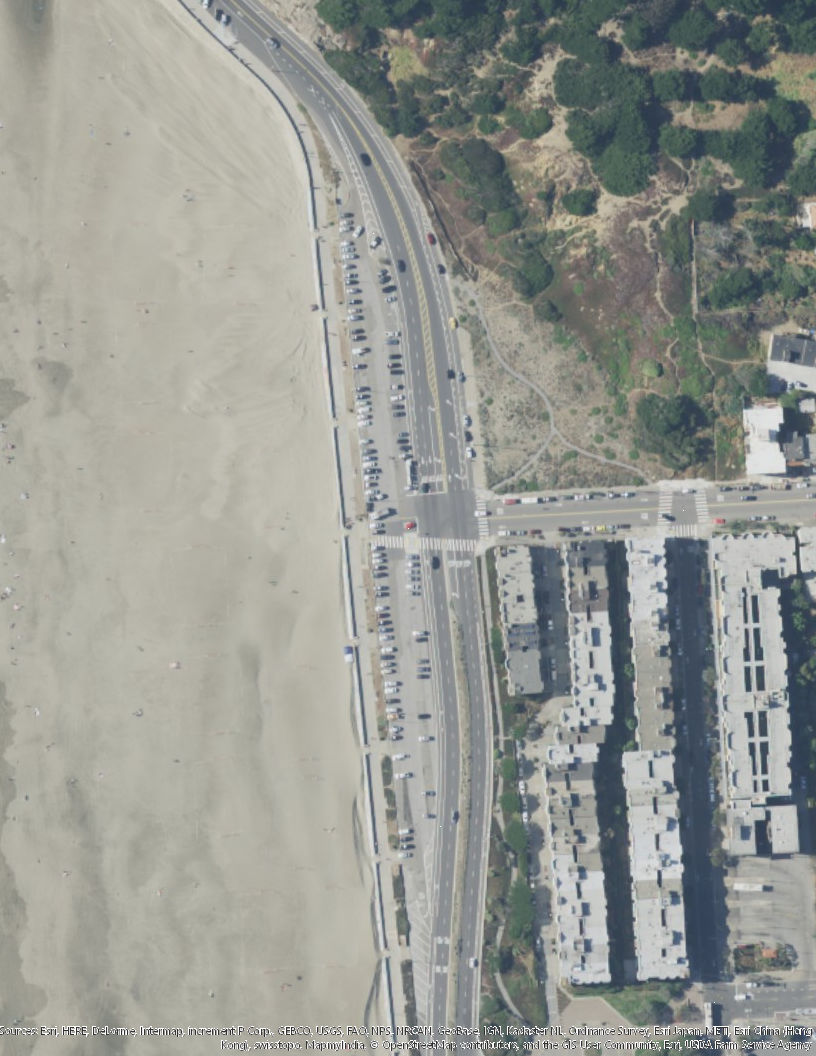zebracross: (420, 536, 479, 551), (656, 488, 673, 523), (474, 497, 489, 536), (693, 486, 710, 520), (669, 521, 705, 537), (373, 535, 405, 549)
